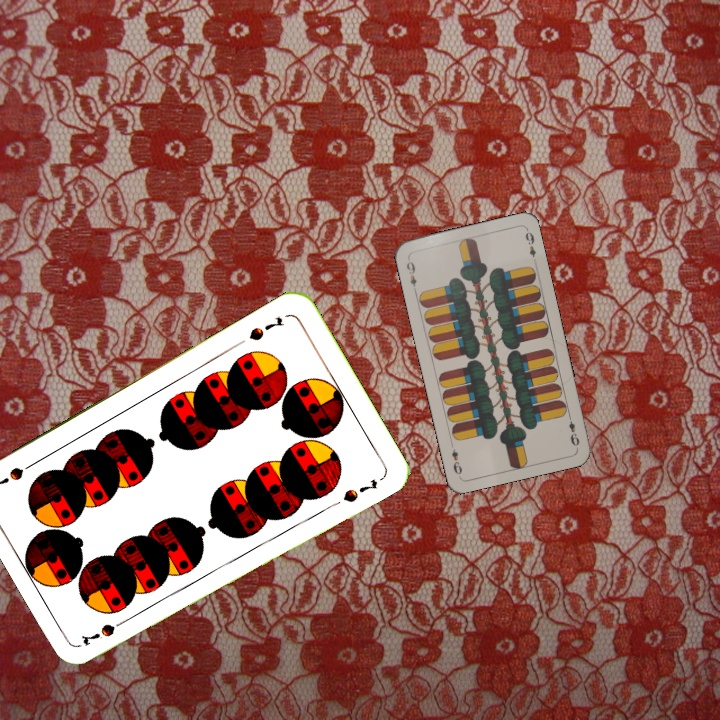E9: (564, 410, 582, 449), (402, 254, 419, 294)
S7: (78, 613, 133, 648), (245, 312, 286, 344)
